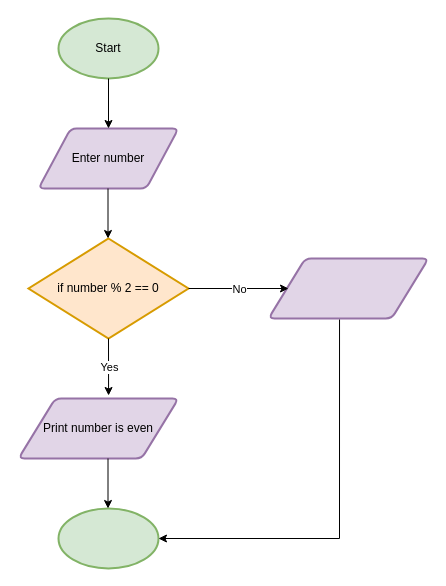
This 446x586 diagram has some shape labels left out. Here are the shapes that lost their labels. From the top down, the centre of each, then its label:
[348,288]: Print number is odd
[108,538]: Stop
